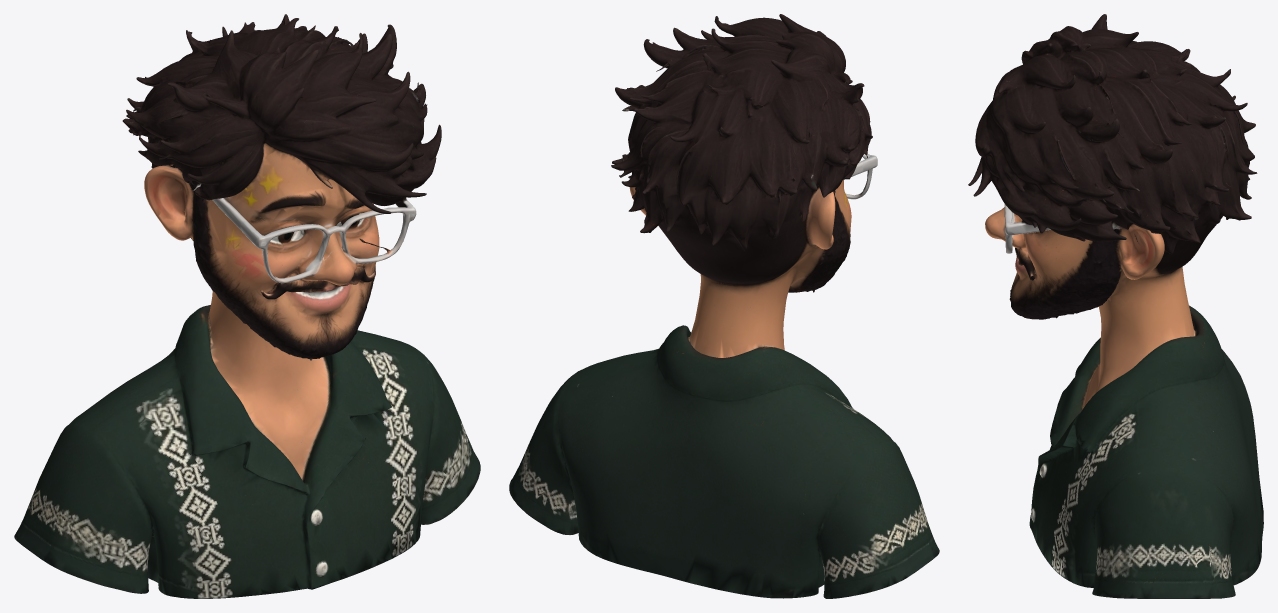
Rendered from avatar.glb.
3 views of the same model, side by side, from view 1: azimuth 30°, elevation 25°; view 2: azimuth 150°, elevation 25°; view 3: azimuth 270°, elevation 25° (orthographic). The views are drawn at different scales.
Visible parts, largest first — view 1: BodhiAvatar; view 2: BodhiAvatar; view 3: BodhiAvatar.
Part boxes in pixels (x1,y1,x2,y2): BodhiAvatar: (14,14,480,598); BodhiAvatar: (509,14,939,598); BodhiAvatar: (968,14,1263,598).
Bounding box in the file's own units: 1.62 × 1.9 × 1.04.
Materials: 1 (1 with a texture image).
